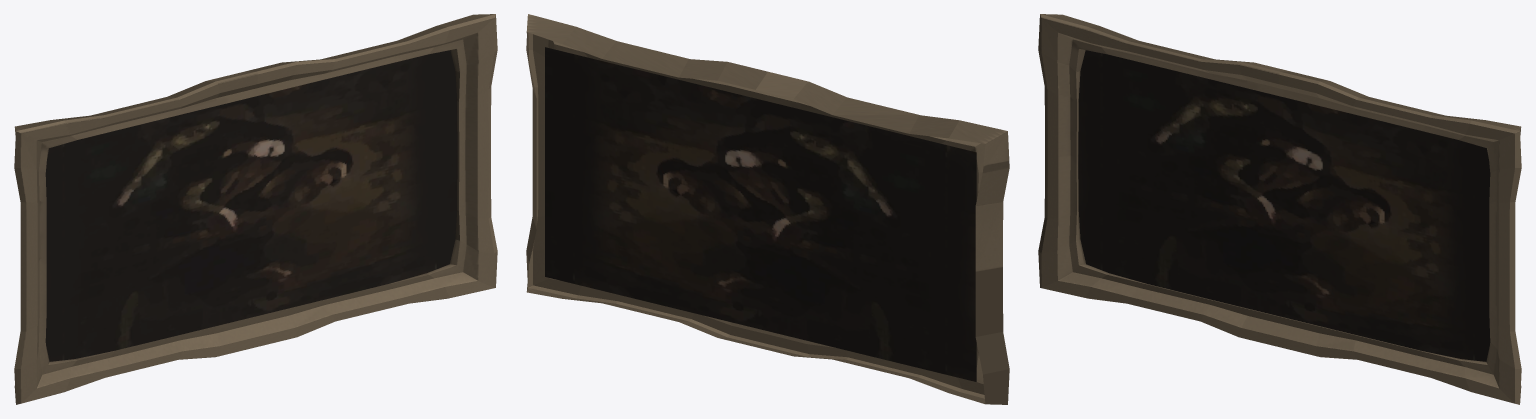
File: Painting03.fbx
3 renders of one model, left to right at view 1: azimuth 30°, elevation 25°; view 2: azimuth 150°, elevation 25°; view 3: azimuth 330°, elevation 25°, orthographic.
Visible parts, largest first — view 1: Painting03; view 2: Painting03; view 3: Painting03.
Boxes of the visible parts, x1,y1,x2,y2 form: Painting03: [14, 14, 497, 404]; Painting03: [526, 14, 1009, 404]; Painting03: [1038, 14, 1521, 404].
Size of the model in its own units: 328 by 179 by 16.96.
